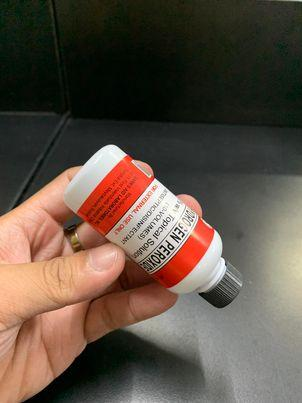-Bottle-: (62, 144, 244, 309)
